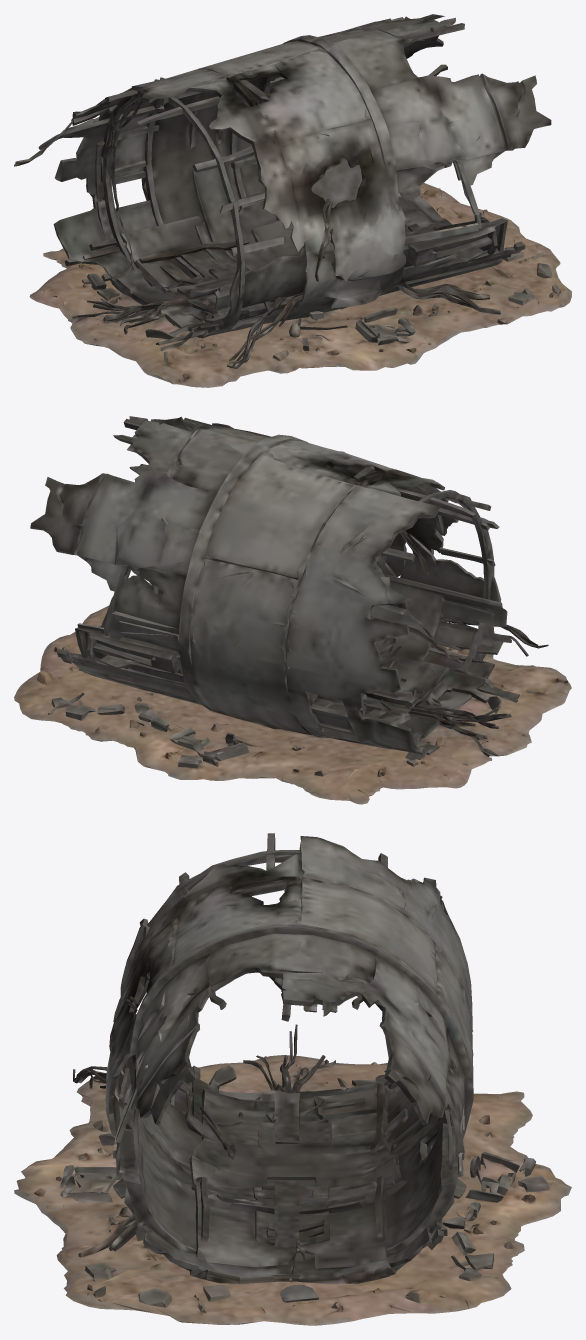
File: node.salvage_pile.l3.glb
3 renders of one model, top to bottom at view 1: azimuth 30°, elevation 25°; view 2: azimuth 150°, elevation 25°; view 3: azimuth 270°, elevation 25°, orthographic. The views are drawn at different scales.
Parts seen in each view (by area): view 1: body; view 2: body; view 3: body.
Boxes of the visible parts, bbox=[...] form: body: bbox=[14, 14, 571, 387]; body: bbox=[14, 416, 571, 804]; body: bbox=[14, 833, 571, 1325].
Bounding box in the file's own units: 2.8 × 1.38 × 2.44.
Materials: 1 (1 with a texture image).
